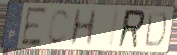C: (46, 8, 71, 48)
D: (143, 10, 168, 49)
E: (20, 6, 49, 48)
H: (68, 8, 99, 48)
I: (107, 9, 121, 49)
R: (116, 8, 148, 50)
